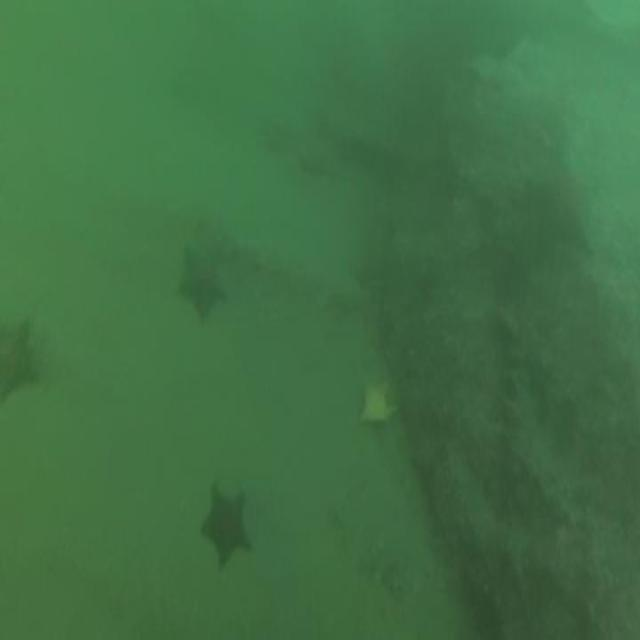starfish: (197, 474, 255, 572), (174, 237, 231, 327), (0, 316, 49, 419), (356, 373, 400, 435)
